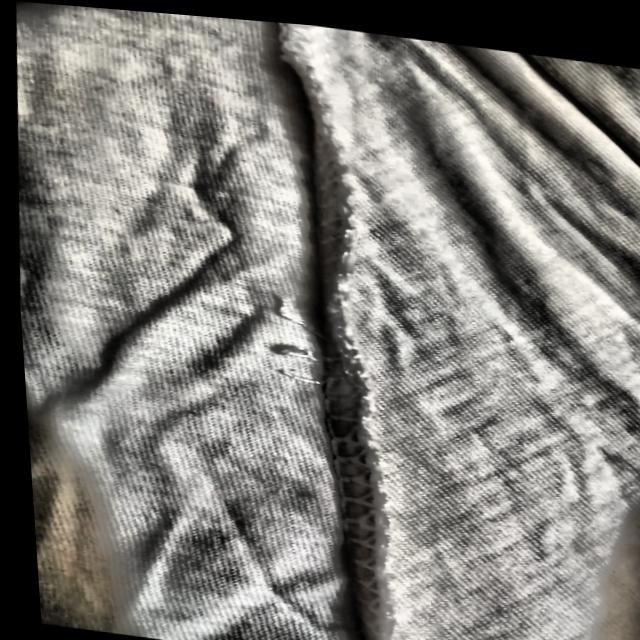Stitch: (233, 236, 405, 456)
